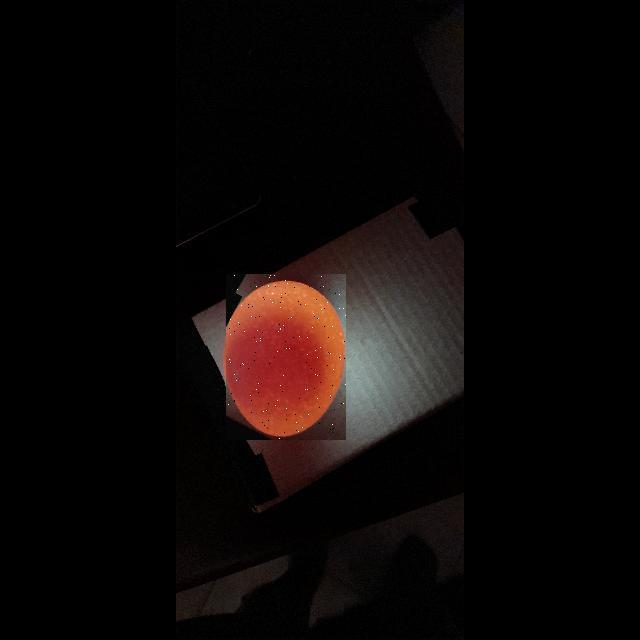Inedible: (224, 278, 348, 438)
